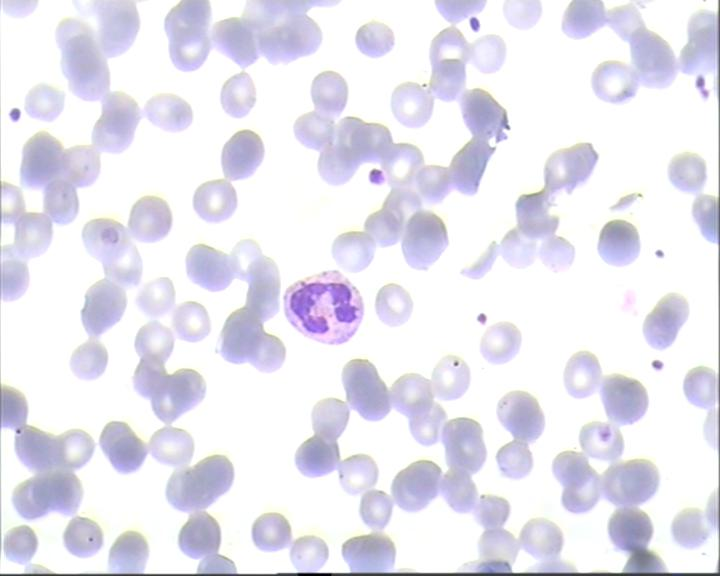neut: (283, 267, 363, 346)
